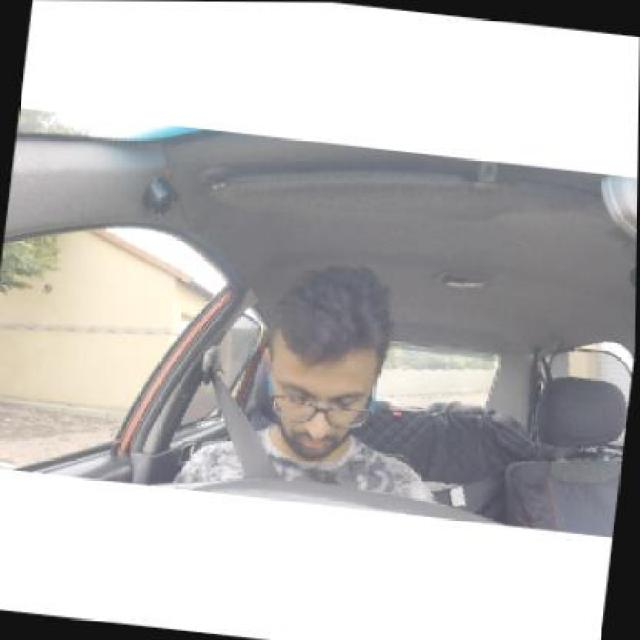drowsy: (259, 256, 395, 464)
